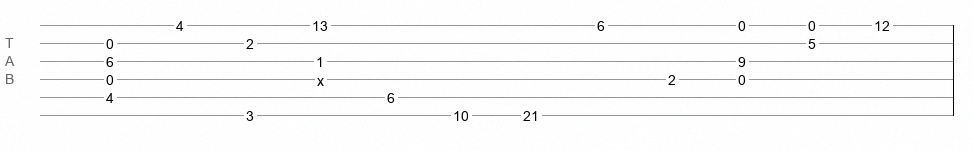0: (106, 36, 114, 46), (106, 72, 114, 82), (738, 18, 746, 28), (738, 72, 746, 82), (808, 18, 816, 28)
1: (316, 54, 324, 64)
10: (453, 108, 469, 118)
12: (874, 18, 890, 28)
13: (312, 18, 328, 28)
2: (246, 36, 254, 46), (668, 72, 676, 82)
21: (523, 108, 539, 118)
3: (246, 108, 254, 118)
4: (106, 90, 114, 100), (176, 18, 184, 28)
5: (808, 36, 816, 46)
6: (106, 54, 114, 64), (387, 90, 395, 100), (597, 18, 605, 28)
9: (738, 54, 746, 64)
x: (317, 73, 324, 81)
